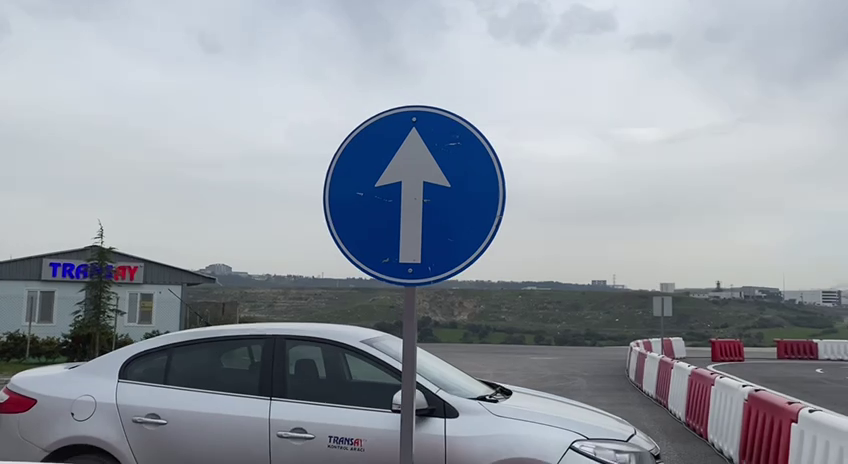forward: (318, 101, 513, 295)
